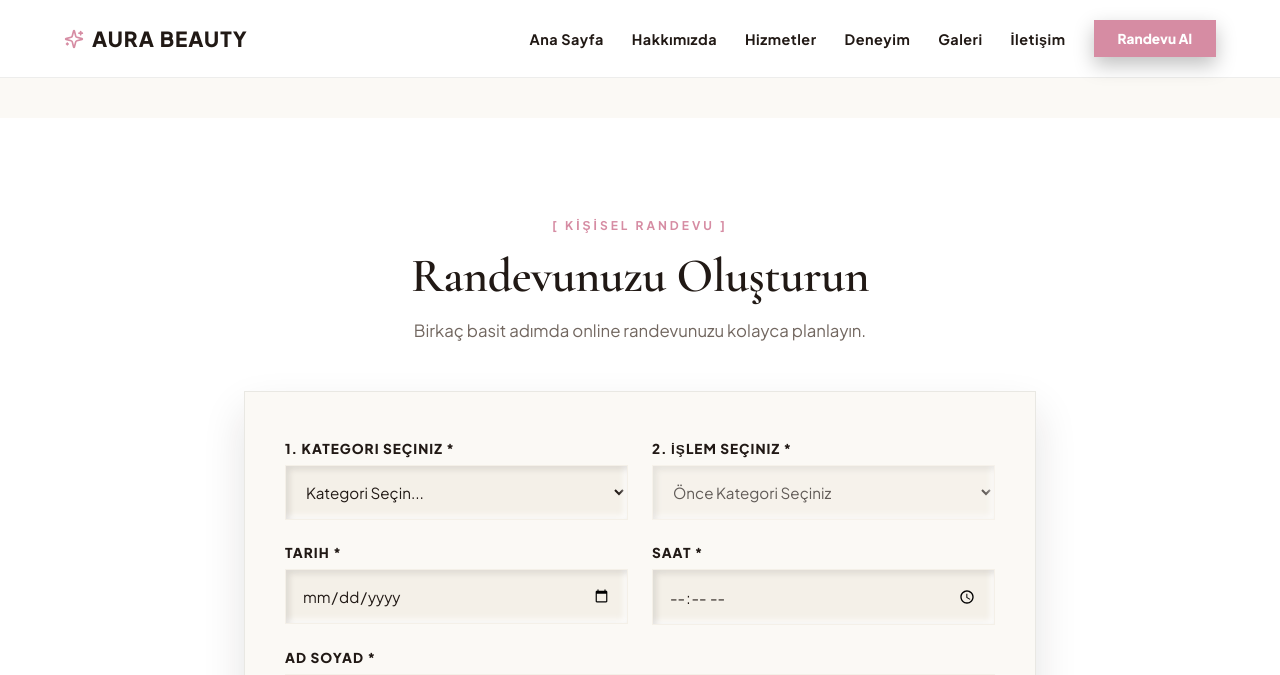
the form reports success only after the endpoint accepted it
Select "01 - CİLT BAKIMI" in the dropdown below "1. Kategori Seçiniz *". click: (456, 493)
box: top-left (285, 465), bottom-right (628, 520)
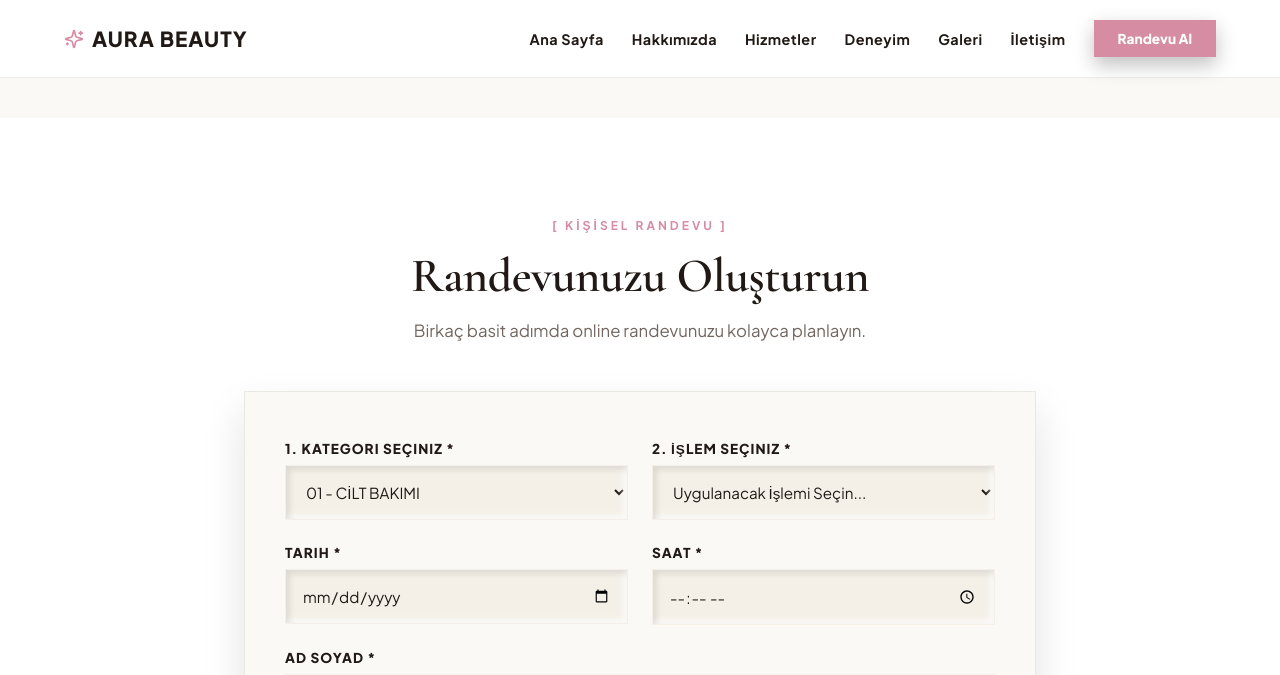
Select "Hydrafacial Medikal Bakım (60 dk)" in the dropdown below "2. İşlem Seçiniz *". click: (824, 493)
box: top-left (652, 465), bottom-right (995, 520)
Type "2026-12-24" into the date field. click: (456, 597)
box: top-left (285, 569), bottom-right (628, 624)
Type "14:00" into the time field. click: (824, 597)
box: top-left (652, 569), bottom-right (995, 625)
(page scrolled)
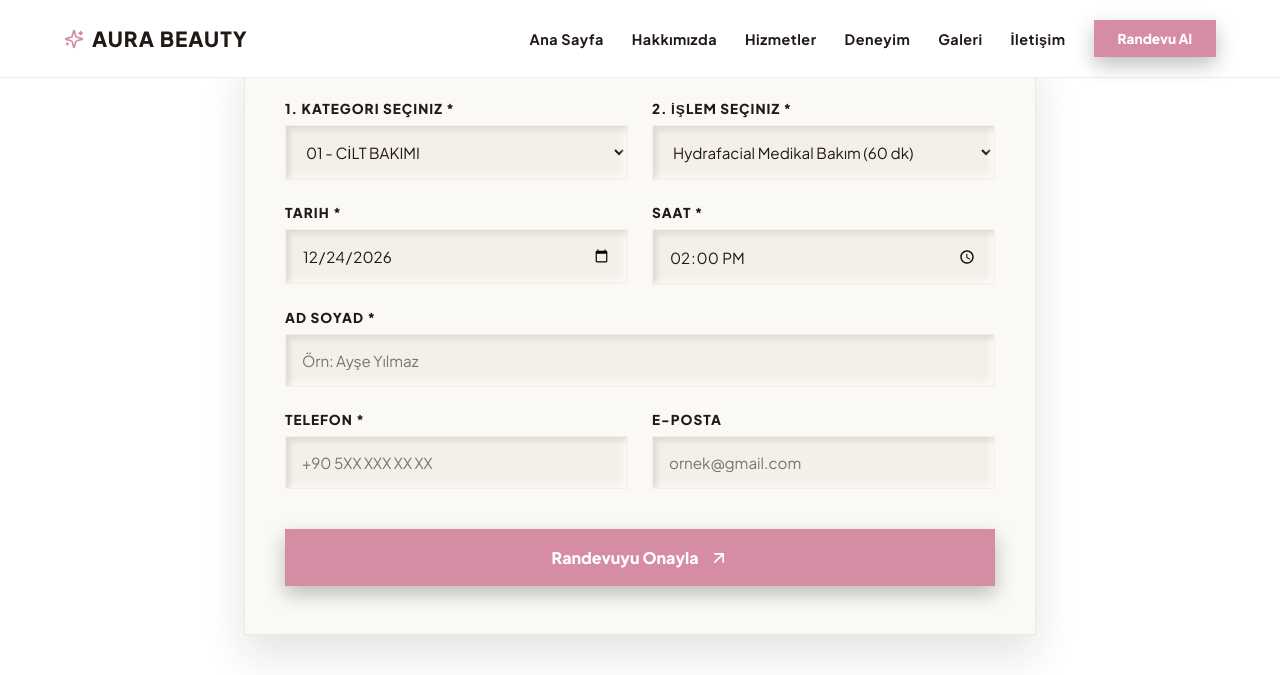
Type "Ada" into the field with placeholder "Örn: Ayşe Yılmaz". click: (640, 361)
box: top-left (285, 334), bottom-right (995, 387)
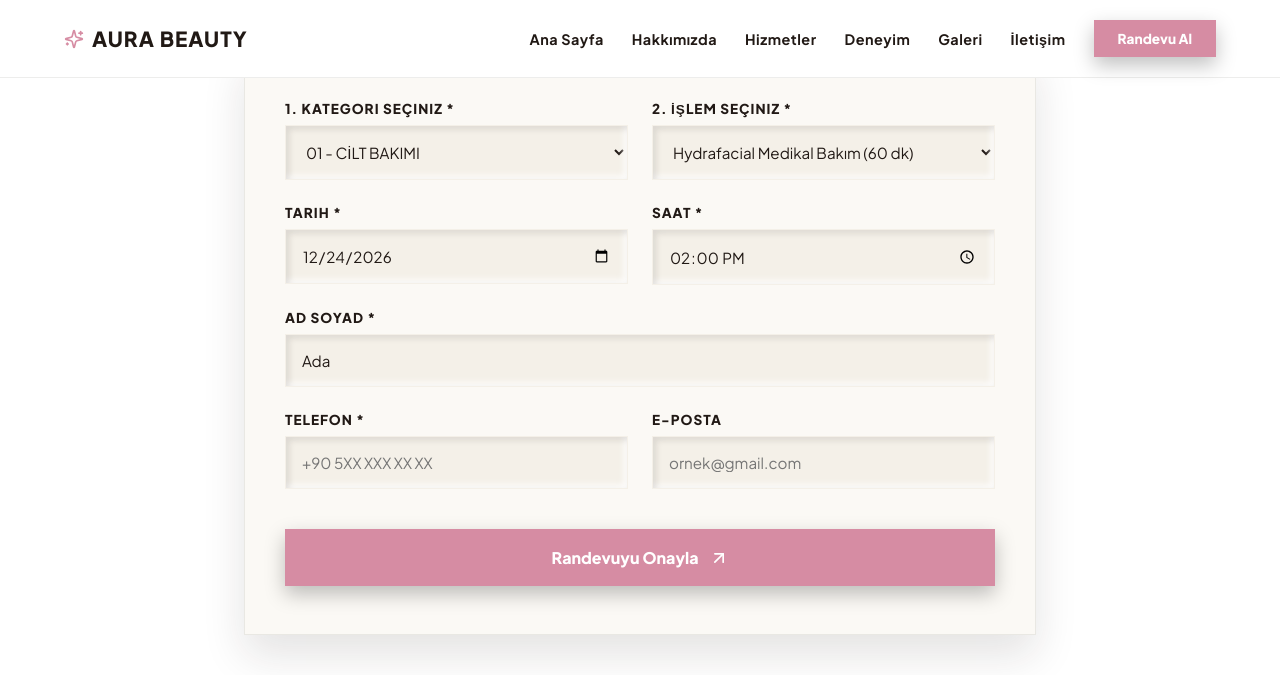
Type "05551234567" into the field with placeholder "+90 5XX XXX XX XX". click: (456, 463)
box: top-left (285, 436), bottom-right (628, 489)
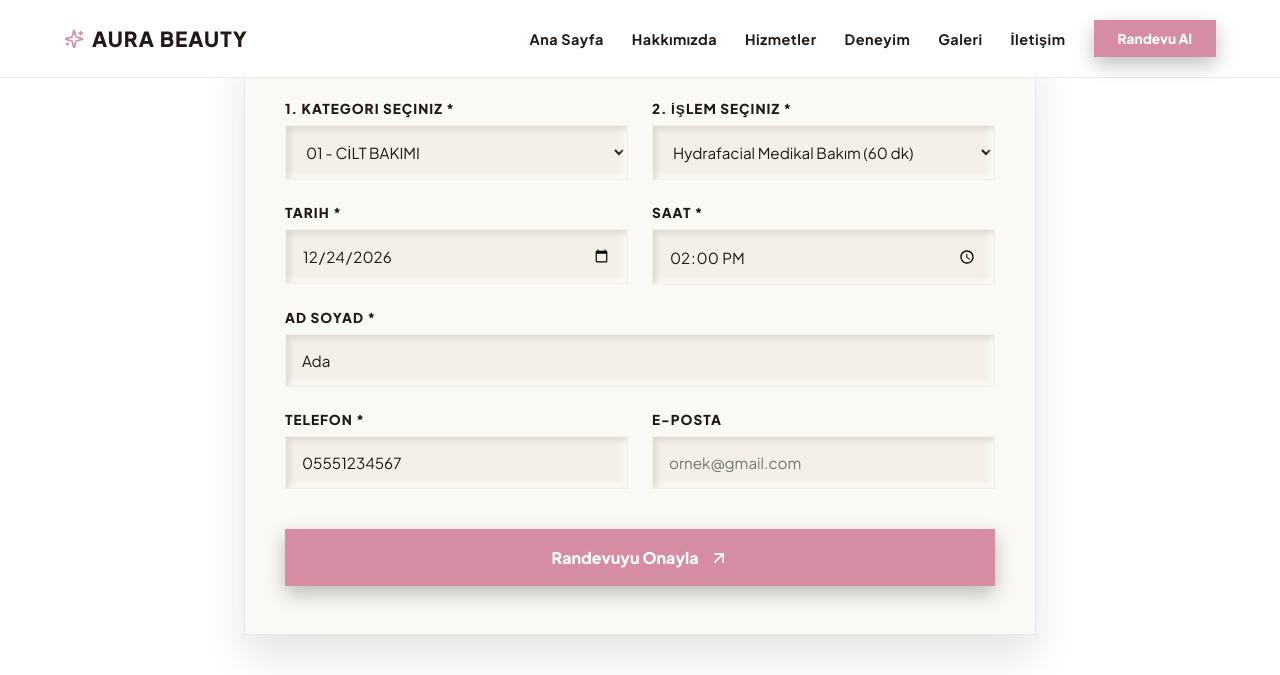
Submit the form, box top-left (285, 100), bottom-right (995, 586)
(page scrolled)
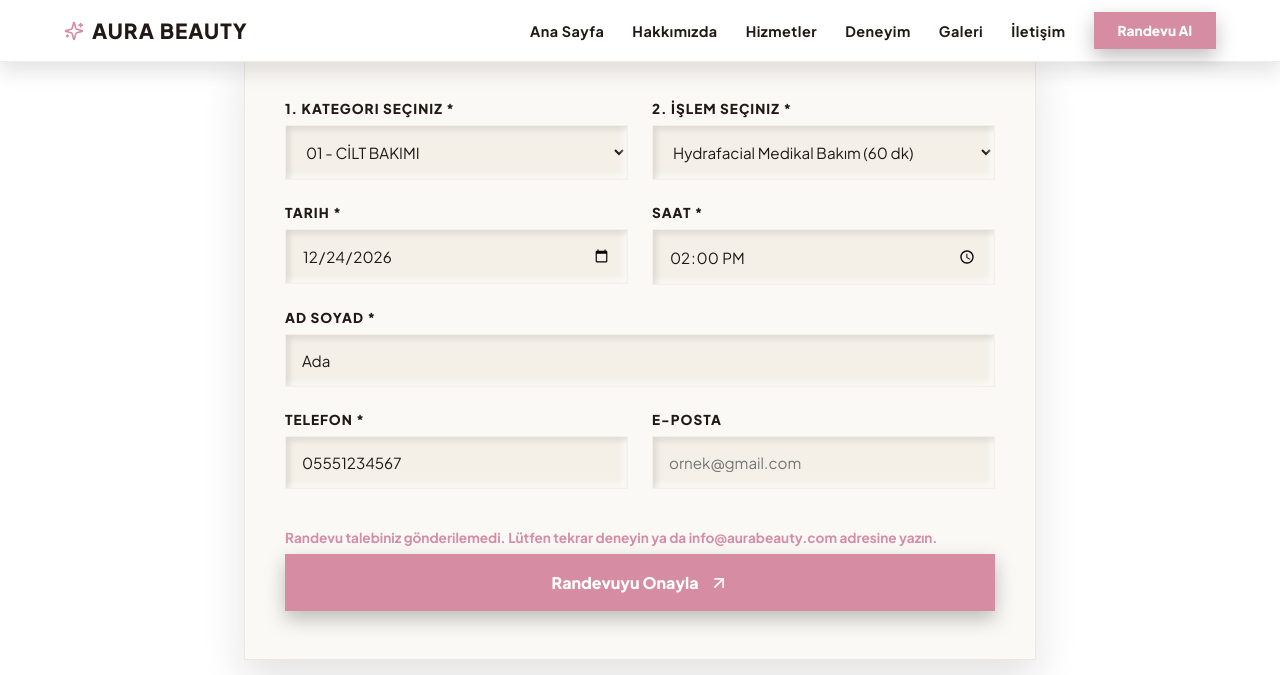
Expected: the text "Randevunuz Alındı" is not shown
Expected: the message is shown, top-left (285, 529), bottom-right (995, 546)
Submit the form, box top-left (285, 100), bottom-right (995, 611)
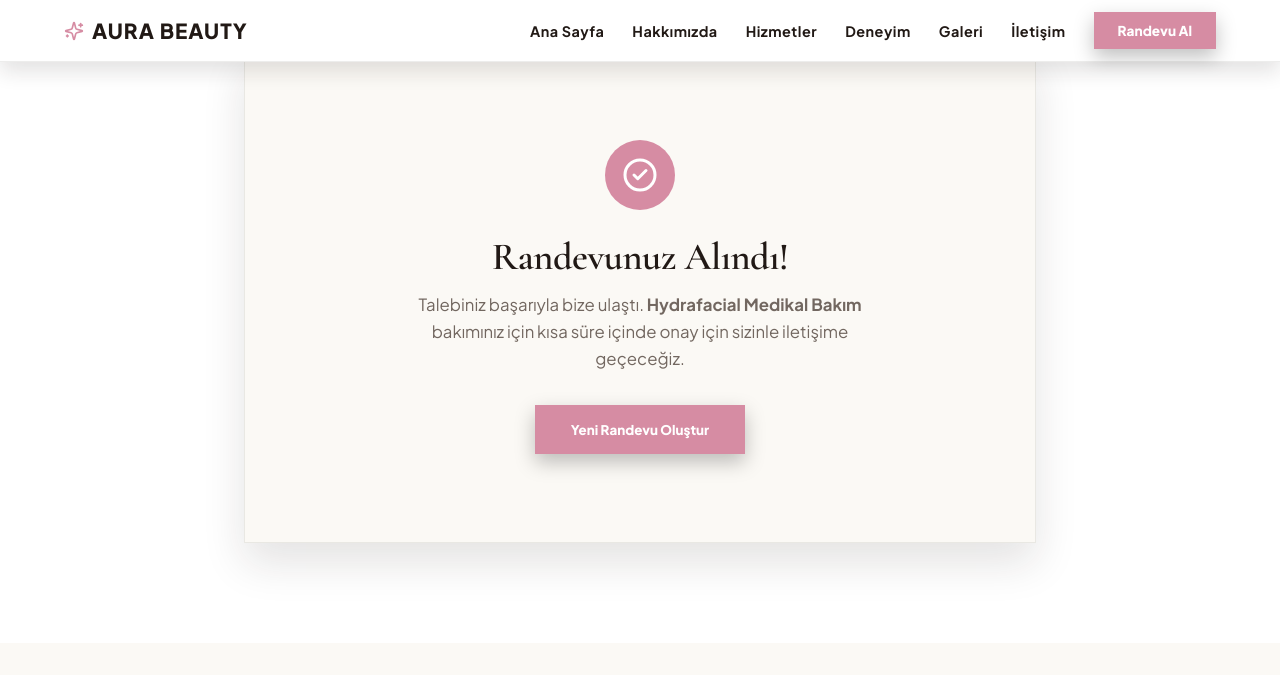
Expected: the heading "Randevunuz Alındı!" is shown, top-left (492, 234), bottom-right (788, 280)
